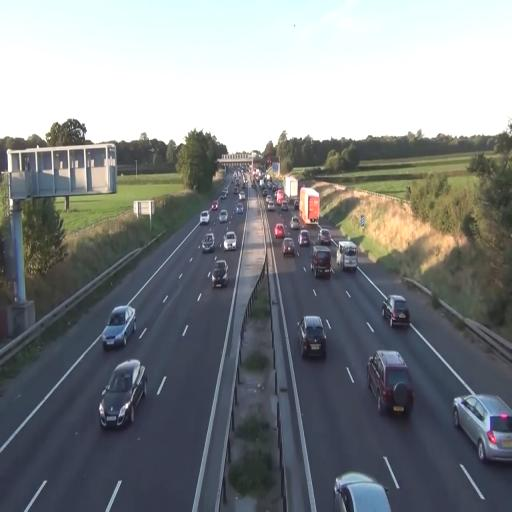vehicle: (453, 393, 512, 465), (98, 358, 147, 430), (367, 349, 415, 416), (334, 472, 392, 512), (102, 305, 136, 351), (300, 315, 327, 360), (298, 185, 320, 235), (382, 294, 410, 330), (310, 245, 332, 278), (210, 259, 228, 289), (341, 243, 358, 274), (202, 231, 216, 252), (283, 235, 296, 257), (223, 230, 237, 250), (274, 222, 285, 240), (200, 210, 210, 226)
